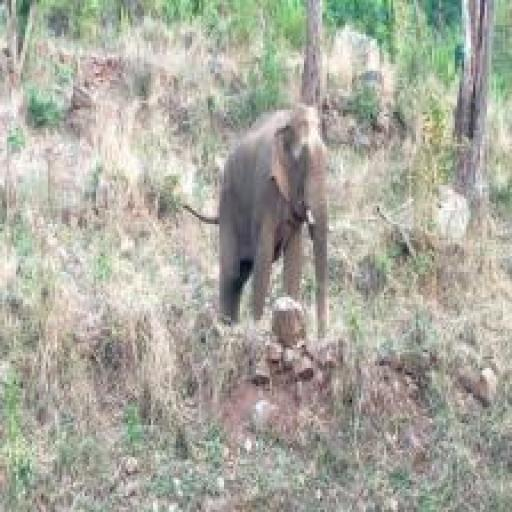Elephant: (217, 103, 329, 338)
